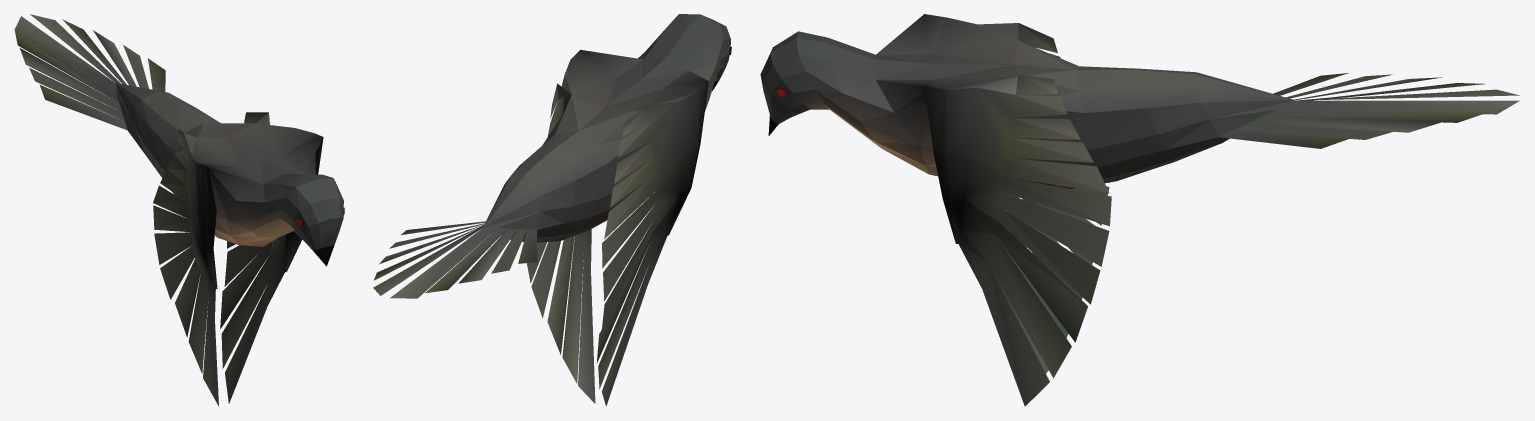
Rendered from pigeon.glb.
The picture shows the model from 3 angles, left to right: view 1: azimuth 30°, elevation 25°; view 2: azimuth 150°, elevation 25°; view 3: azimuth 270°, elevation 25°; orthographic projection. The views are drawn at different scales.
Parts seen in each view (by area): view 1: pigeon_body; view 2: pigeon_body; view 3: pigeon_body.
Part boxes in pixels (x1=…): pigeon_body: x1=14, y1=14, x2=344, y2=406; pigeon_body: x1=373, y1=14, x2=731, y2=406; pigeon_body: x1=760, y1=14, x2=1519, y2=406.
Size of the model in its own units: 38.99 by 90.63 by 171.
